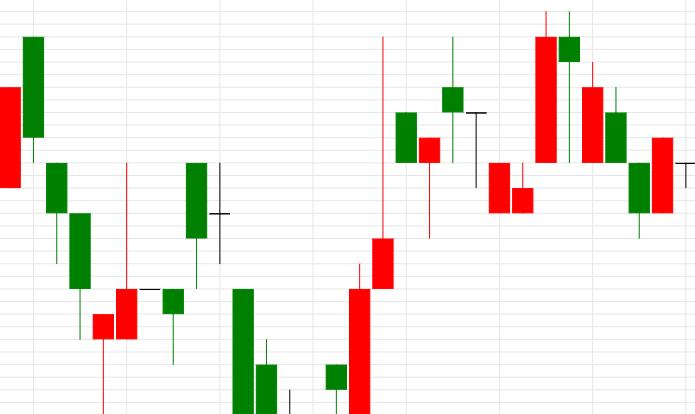bullish_engulfing_rise: (209, 163, 370, 414)
three_black_crows_fall: (0, 37, 91, 340)
